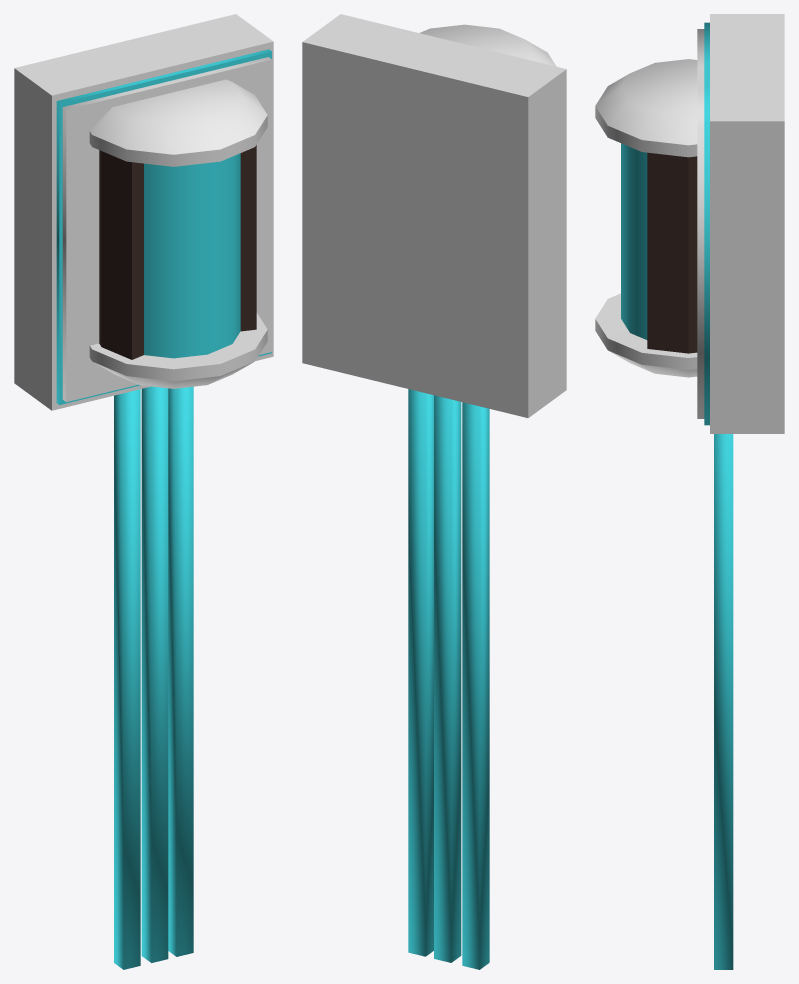
File: ShootButton Wall.fbx
3 views of the same model, side by side, from view 1: azimuth 30°, elevation 25°; view 2: azimuth 150°, elevation 25°; view 3: azimuth 270°, elevation 25° (orthographic). The views are drawn at different scales.
Parts seen in each view (by area): view 1: Cube.008, Wall Switch 2, Wall Switch 2.001; view 2: Cube.008, Wall Switch 2; view 3: Cube.008, Wall Switch 2, Wall Switch 2.001.
Boxes of the visible parts, <box> form: Cube.008: <box>14,14,273,969</box>; Wall Switch 2: <box>89,79,267,388</box>; Wall Switch 2.001: <box>99,145,256,359</box>; Cube.008: <box>302,14,566,969</box>; Wall Switch 2: <box>419,24,556,66</box>; Cube.008: <box>697,14,784,969</box>; Wall Switch 2: <box>595,59,697,377</box>; Wall Switch 2.001: <box>647,152,697,353</box>.
Bounding box in the file's own units: 0.5733 × 2.21 × 0.4275.
